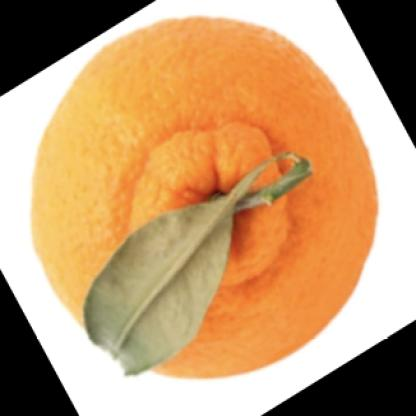fresh: (33, 17, 380, 379)
